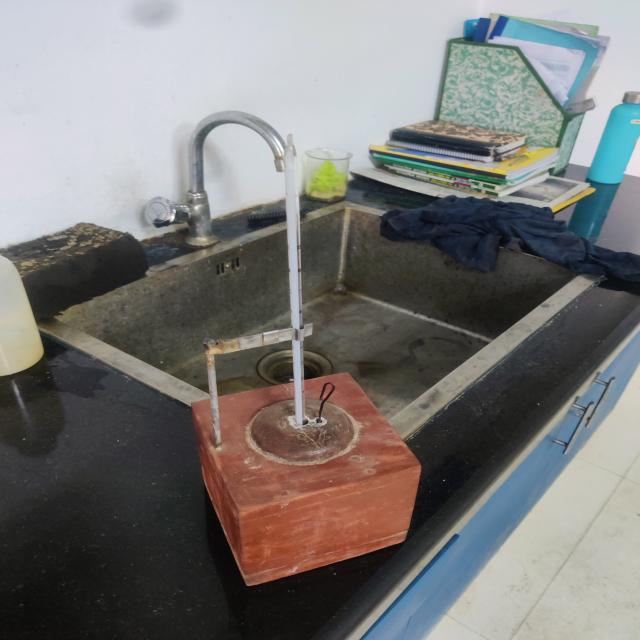Calorimeter: (142, 125, 448, 629)
